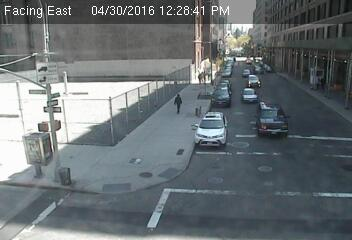neg: (133, 102, 155, 132), (96, 9, 117, 37), (259, 82, 279, 109), (47, 34, 67, 61), (75, 107, 94, 132), (214, 121, 232, 144), (85, 68, 100, 88), (268, 38, 283, 57), (195, 12, 207, 28)
pos: (169, 90, 186, 114), (196, 69, 208, 85), (204, 66, 213, 78)
